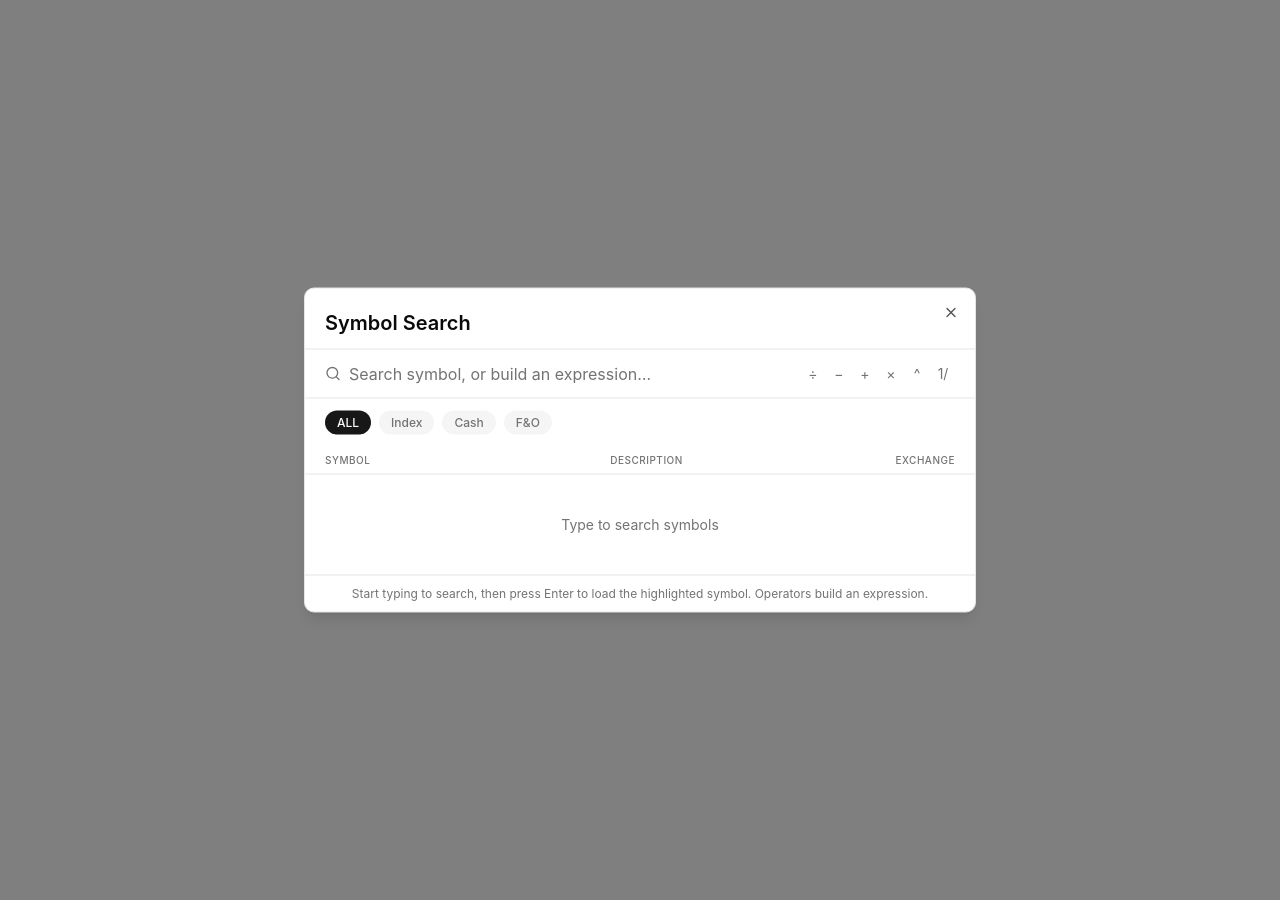
SymbolSearchDialog › ranks an index above a same-scoring cash-equity match in ALL results
Type "NIFTY" into the field labelled "Search symbol". click: (571, 374)
box: [349,362,793,386]
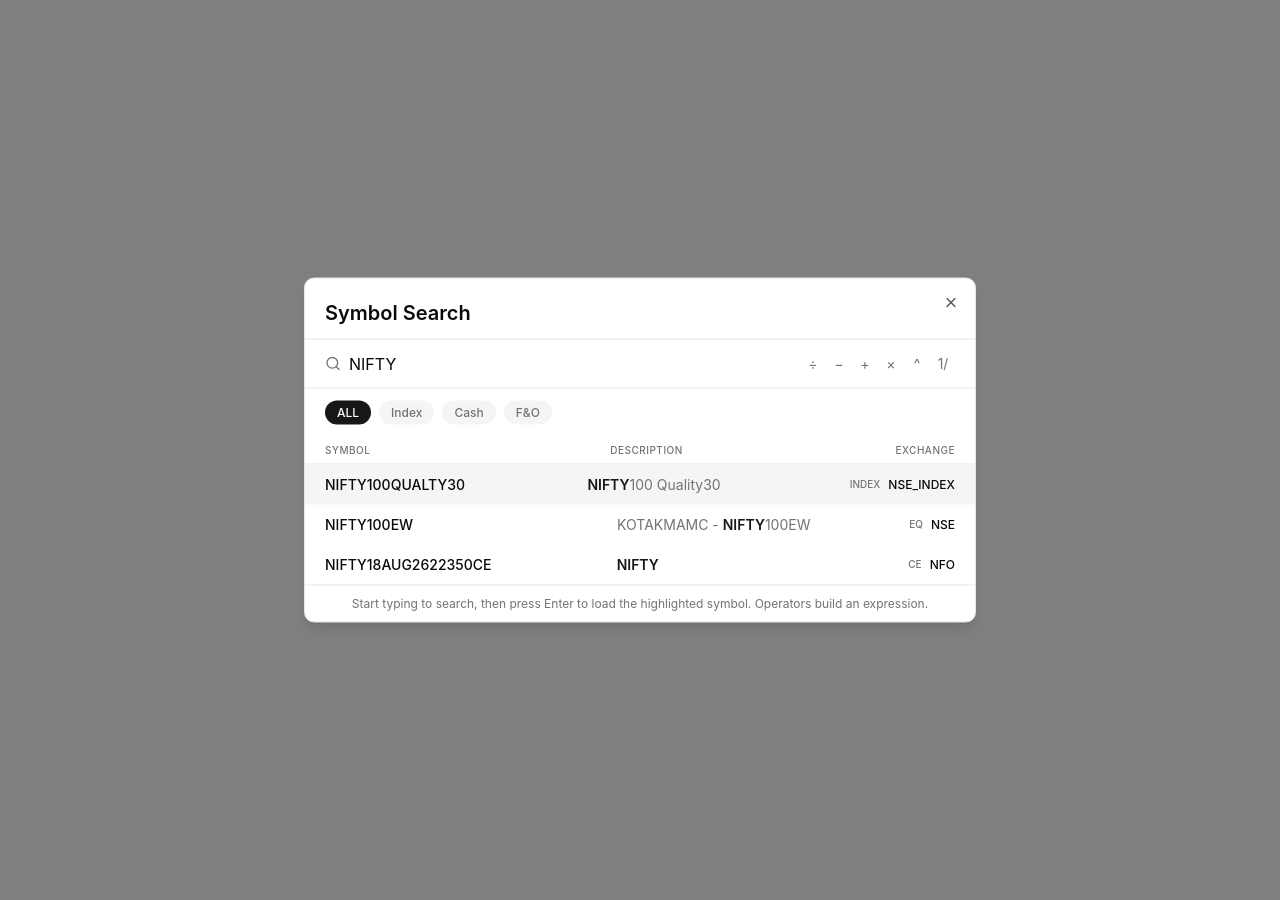
expect the text "NIFTY100QUALTY30" is shown: met, box [325,476,465,492]
